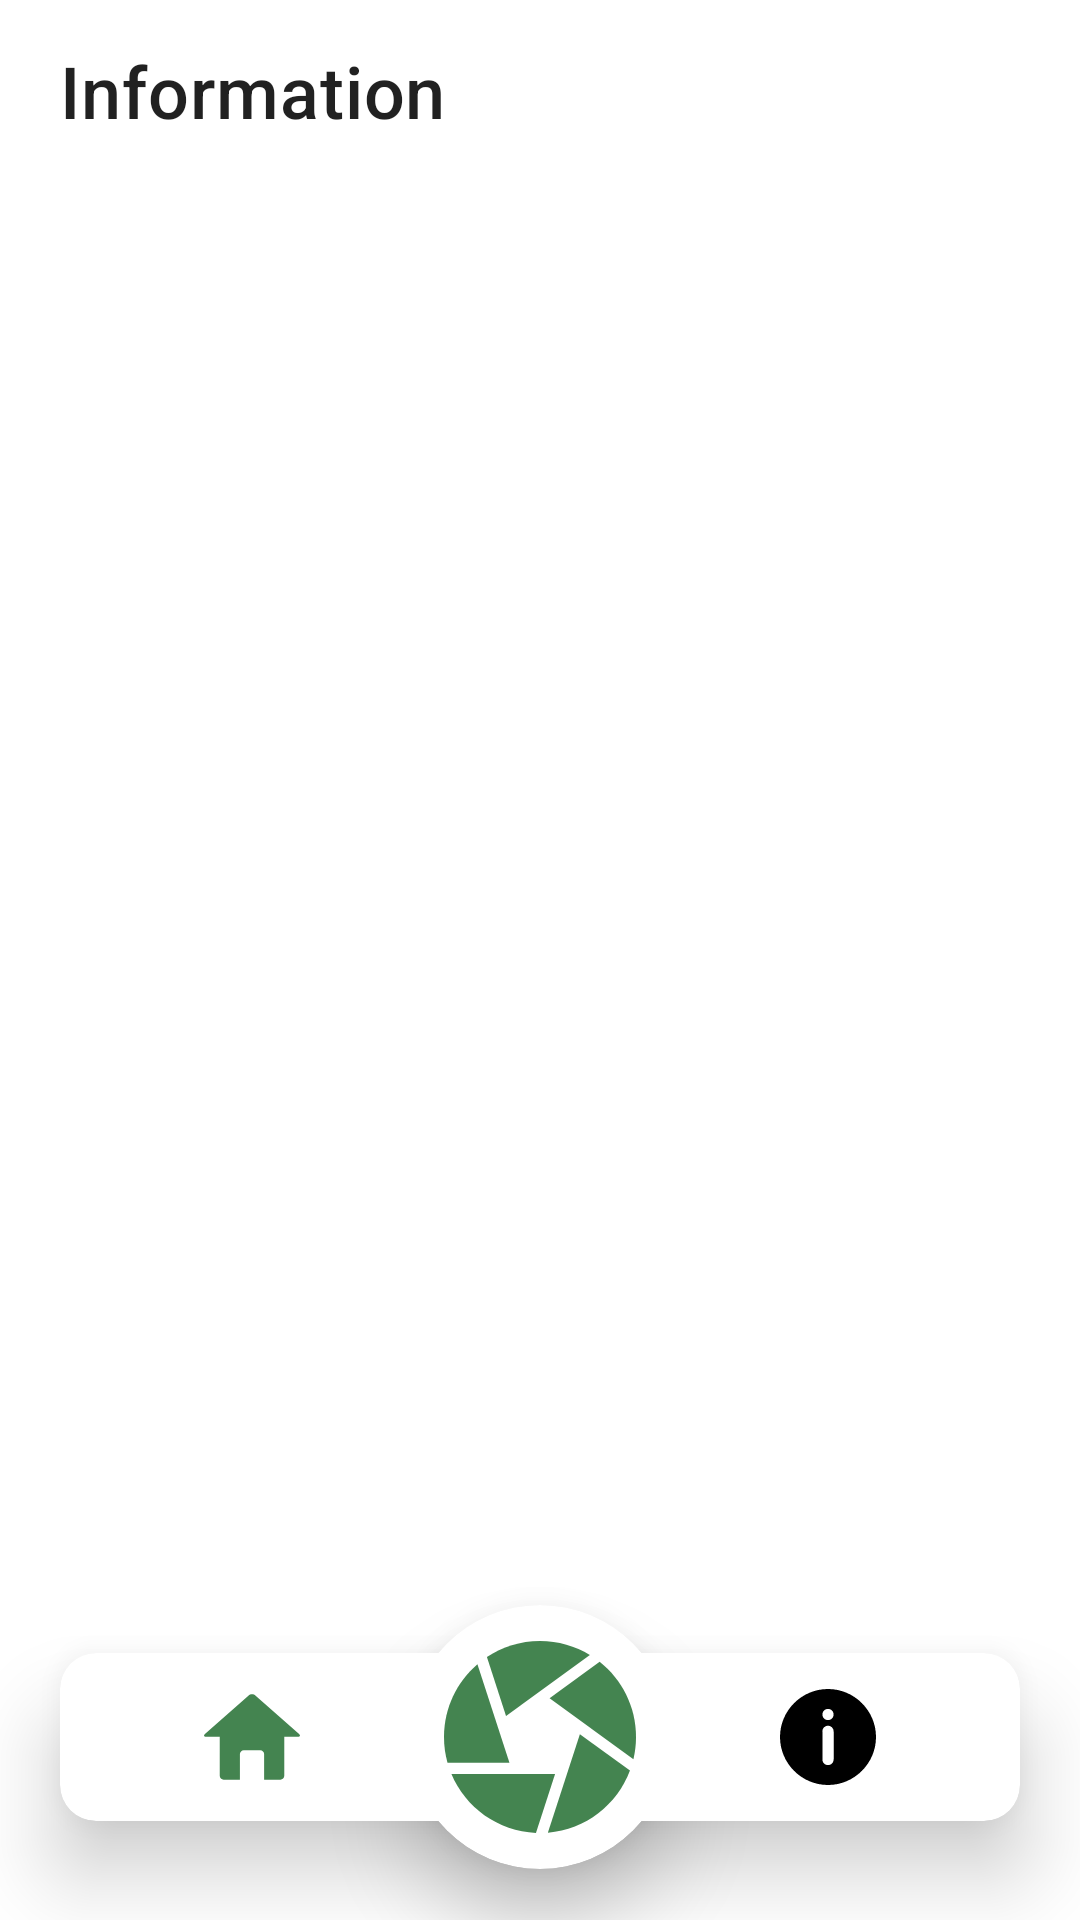

Icons on this 1080*1920 Android screen, each with the point to tap as (x,y):
home: (252,1737)
information: (828,1737)
scan: (540,1737)
